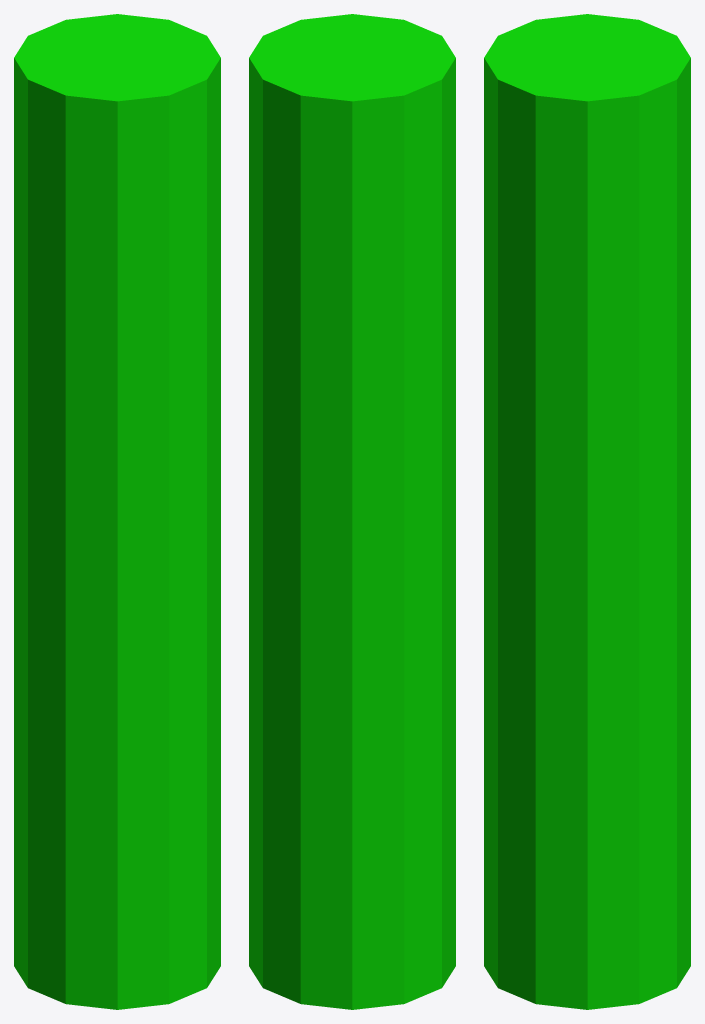
The model's file is sm_collider.fbx.
3 views of the same model, side by side, from view 1: azimuth 30°, elevation 25°; view 2: azimuth 150°, elevation 25°; view 3: azimuth 270°, elevation 25° (orthographic).
Parts seen in each view (by area): view 1: sm_collider; view 2: sm_collider; view 3: sm_collider.
Part boxes in pixels (x1,y1,x2,y2): sm_collider: (14, 14, 220, 1009); sm_collider: (249, 14, 455, 1009); sm_collider: (484, 14, 690, 1009).
Bounding box in the file's own units: 253 × 1224 × 253.
